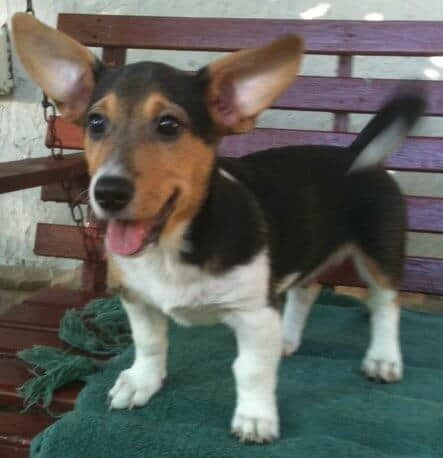dog: (6, 8, 429, 444)
